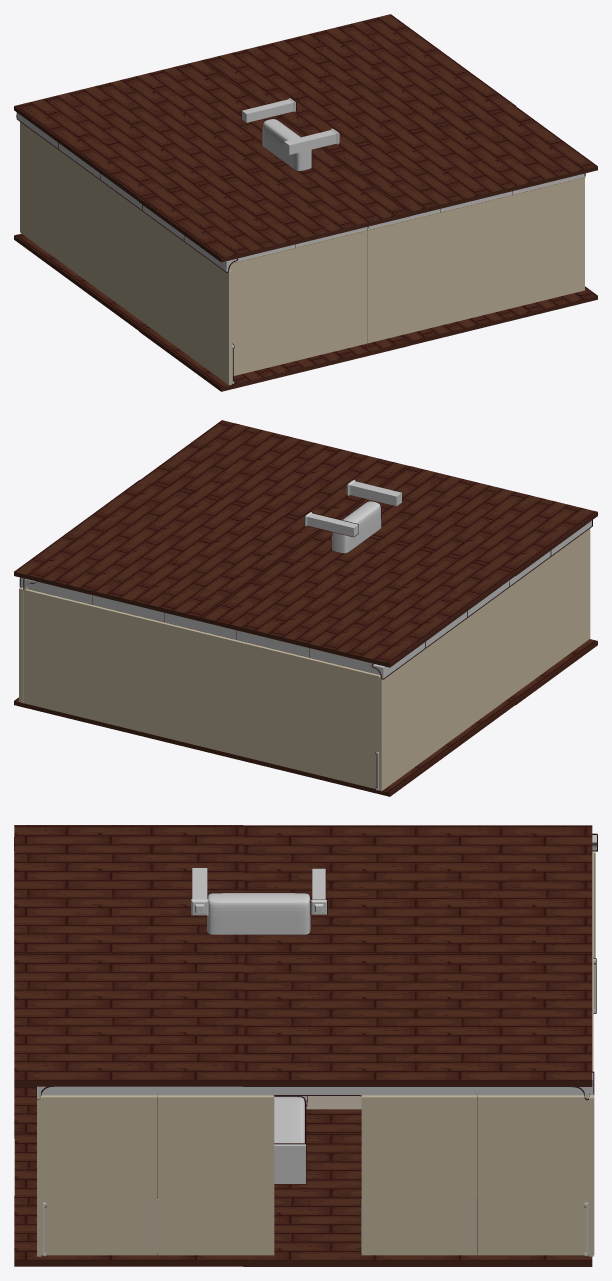
The model's file is HotelRoomFinal.fbx.
3 views of the same model, one above another, from view 1: azimuth 30°, elevation 25°; view 2: azimuth 150°, elevation 25°; view 3: azimuth 270°, elevation 25° (orthographic). The views are drawn at different scales.
Parts seen in each view (by area): view 1: Cube.137, Cube.090, Cube.092, Cube.091, W.024, W.022, W.013, W.023, W.012, W.014, W.008, W.009 (+8 smaller); view 2: Cube.137, Cube.090, Cube.091, Cube.092, W.004, W.006, W.005, W.002, W.007, W.011, W.010, W.014 (+13 smaller); view 3: Cube.137, Cube.090, Cube.091, Cube.092, W, W.021, W.003, W.001, Cube.098, Cube.101, Cube.022, Cube.023 (+13 smaller).
Boxes of the visible parts, left/top/right/bottom form: Cube.137: left=203, top=14, right=515, bottom=151; Cube.090: left=14, top=60, right=327, bottom=201; Cube.092: left=139, top=152, right=409, bottom=262; Cube.091: left=328, top=106, right=597, bottom=216; W.024: left=512, top=176, right=584, bottom=307; W.022: left=367, top=212, right=439, bottom=343; W.013: left=295, top=230, right=367, bottom=360; W.023: left=440, top=194, right=512, bottom=325; W.012: left=229, top=247, right=294, bottom=375; W.014: left=187, top=244, right=231, bottom=385; W.008: left=145, top=214, right=187, bottom=354; W.009: left=103, top=183, right=145, bottom=323; Cube.137: left=14, top=480, right=321, bottom=621; Cube.090: left=202, top=529, right=515, bottom=667; Cube.091: left=140, top=420, right=409, bottom=519; Cube.092: left=338, top=466, right=597, bottom=575; W.004: left=91, top=605, right=164, bottom=737; W.006: left=236, top=640, right=309, bottom=772; W.005: left=163, top=622, right=236, bottom=754; W.002: left=19, top=587, right=92, bottom=719; W.007: left=308, top=658, right=380, bottom=788; W.011: left=379, top=651, right=423, bottom=791; W.010: left=423, top=620, right=465, bottom=760; W.014: left=548, top=528, right=590, bottom=668; Cube.137: left=243, top=953, right=592, bottom=1086; Cube.090: left=243, top=825, right=592, bottom=953; Cube.091: left=14, top=953, right=243, bottom=1086; Cube.092: left=14, top=825, right=243, bottom=958; W: left=158, top=1095, right=274, bottom=1255; W.021: left=361, top=1095, right=477, bottom=1255; W.003: left=41, top=1095, right=157, bottom=1255; W.001: left=478, top=1095, right=594, bottom=1255; Cube.098: left=243, top=1133, right=592, bottom=1266; Cube.101: left=14, top=1132, right=243, bottom=1266; Cube.022: left=206, top=892, right=311, bottom=934; Cube.023: left=274, top=1096, right=306, bottom=1143.
Size of the model in its own units: 20.83 by 8.88 by 20.07.
